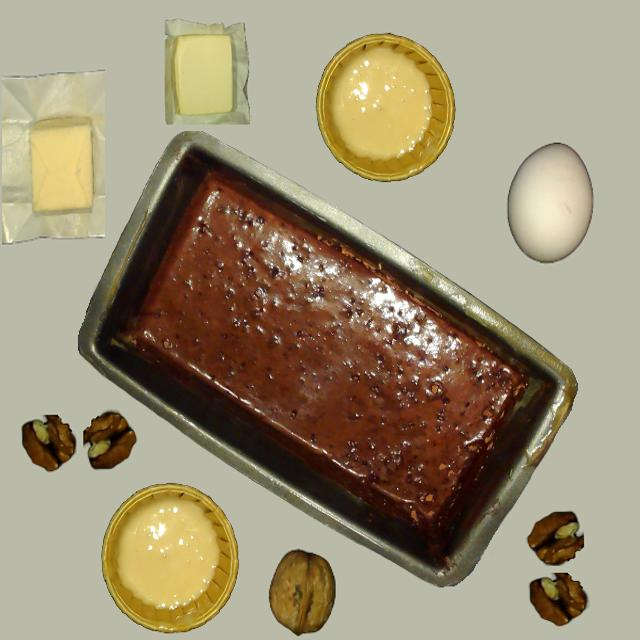Walnut: (269, 552, 335, 634)
